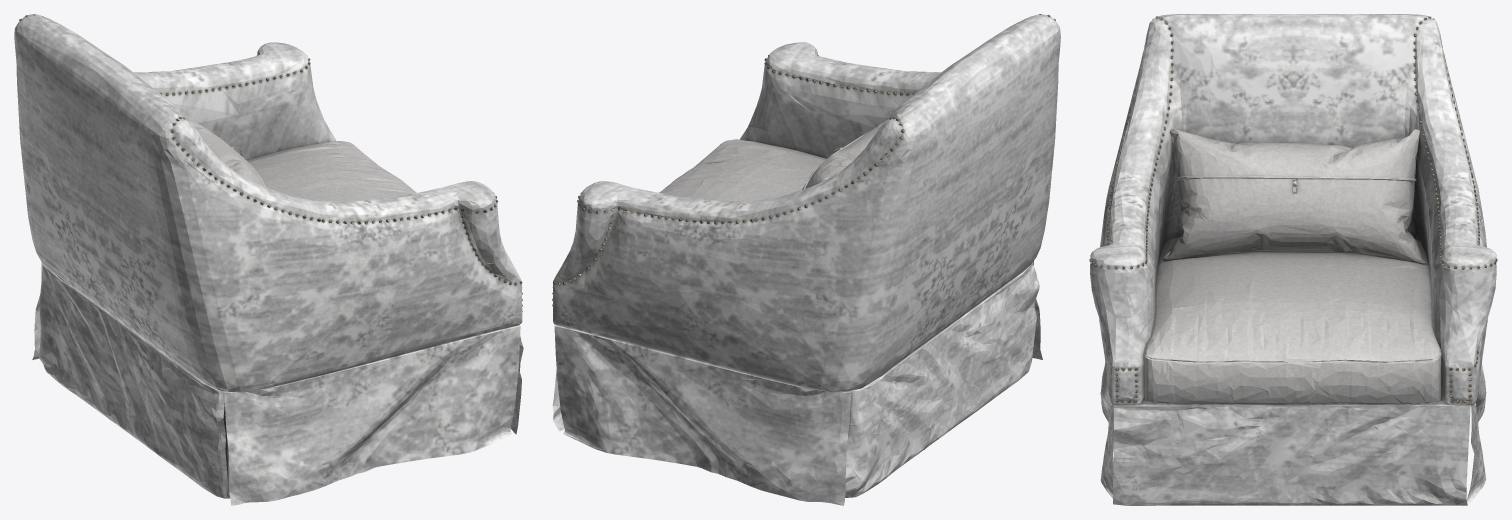
File: 15_325efbab-7eb5-4f8e-bdf8-b16b7a0b2aeb.obj
3 views of the same model, side by side, from view 1: azimuth 30°, elevation 25°; view 2: azimuth 150°, elevation 25°; view 3: azimuth 270°, elevation 25° (orthographic). The views are drawn at different scales.
Bounding box in the file's own units: 0.9481 × 0.984 × 1.04.
1 material, 1 textured.
